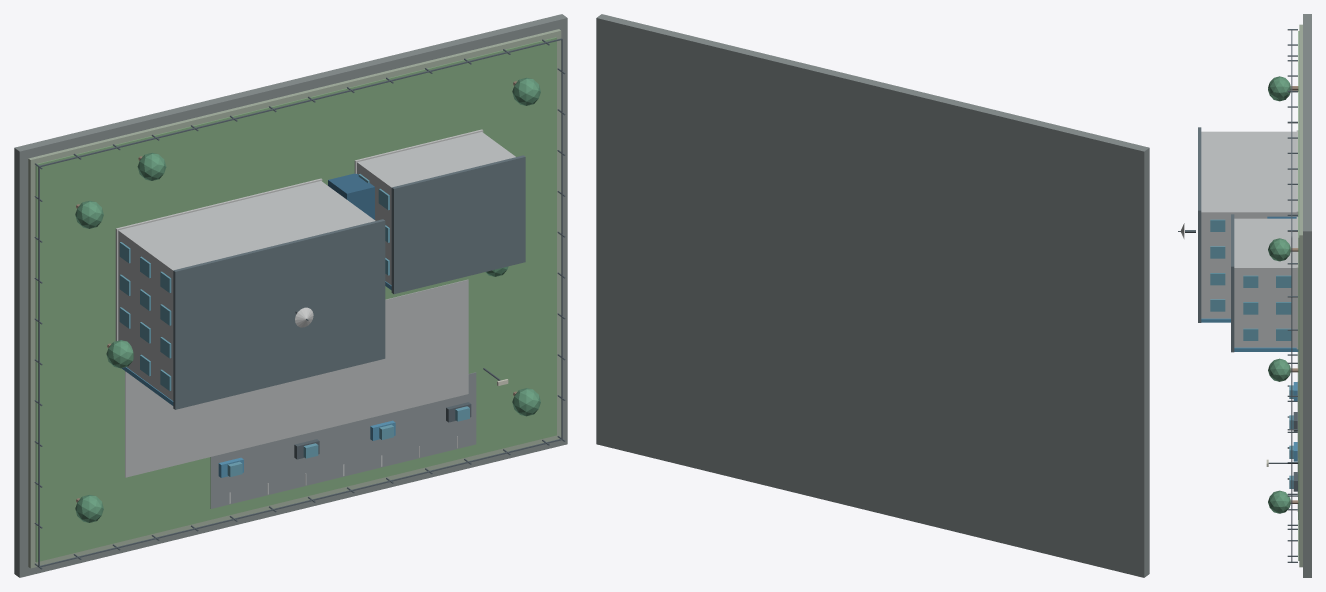
Rendered from scouting_office_level_3.glb.
3 renders of one model, left to right at view 1: azimuth 30°, elevation 25°; view 2: azimuth 150°, elevation 25°; view 3: azimuth 270°, elevation 25°, orthographic. The views are drawn at different scales.
Parts seen in each view (by area): view 1: component_0002, component_0069, component_0055, component_0000, component_0067, component_0145, component_0182, component_0001, component_0143, component_0052, component_0051, component_0181 (+3 smaller); view 2: component_0000; view 3: component_0067, component_0143, component_0000, component_0001, component_0002, component_0069, component_0054, component_0145, component_0219, component_0221, component_0225, component_0227 (+15 smaller).
Boxes of the visible parts, box(x1,y1,x2,y2) form: component_0002: box(35, 37, 556, 562); component_0069: box(173, 219, 385, 409); component_0055: box(125, 279, 468, 477); component_0000: box(14, 14, 567, 577); component_0067: box(118, 181, 375, 400); component_0145: box(391, 155, 525, 294); component_0182: box(210, 372, 476, 508); component_0001: box(28, 29, 561, 568); component_0143: box(357, 132, 515, 285); component_0052: box(39, 38, 562, 166); component_0051: box(40, 439, 561, 567); component_0181: box(328, 173, 374, 219); component_0000: box(596, 14, 1149, 577); component_0067: box(1201, 131, 1296, 318); component_0143: box(1234, 218, 1296, 347); component_0000: box(1303, 14, 1311, 577); component_0001: box(1299, 24, 1302, 567); component_0002: box(1298, 31, 1299, 560); component_0069: box(1198, 127, 1201, 322); component_0054: box(1291, 237, 1292, 562); component_0145: box(1231, 214, 1234, 352); component_0219: box(1268, 238, 1290, 261); component_0221: box(1268, 490, 1290, 513); component_0225: box(1268, 358, 1290, 381); component_0227: box(1268, 76, 1290, 99).
Size of the model in its own units: 35.1 by 26.1 by 9.13.
